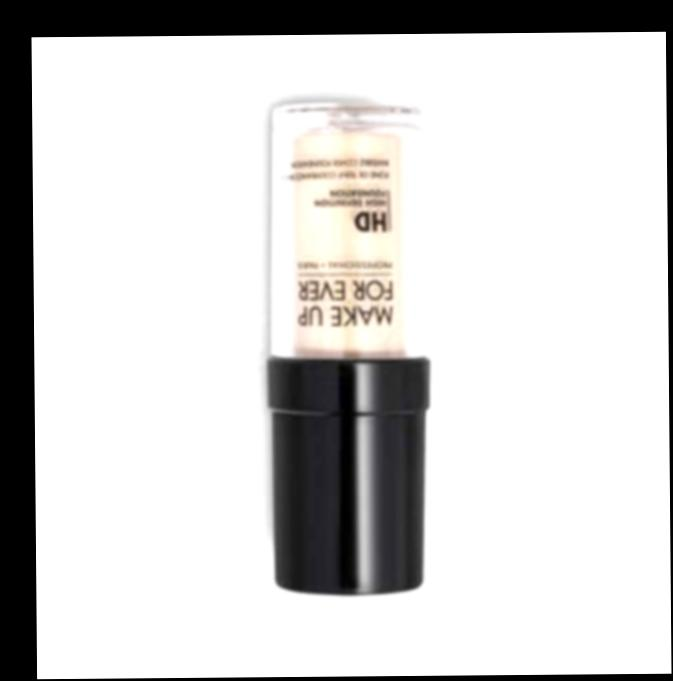cosmetic: (261, 100, 437, 596)
